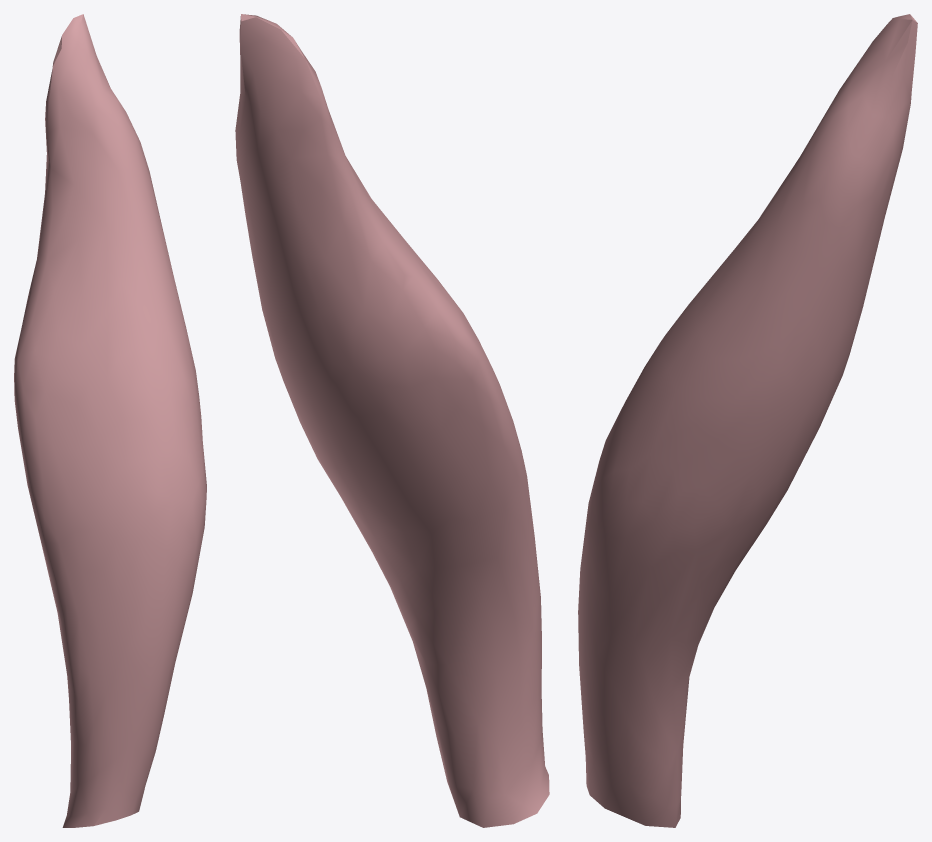
Rendered from fma46190_mm1945m.glb.
The picture shows the model from 3 angles, left to right: view 1: azimuth 30°, elevation 25°; view 2: azimuth 150°, elevation 25°; view 3: azimuth 270°, elevation 25°; orthographic projection. The views are drawn at different scales.
Visible parts, largest first — view 1: FMA46190_MM1945M; view 2: FMA46190_MM1945M; view 3: FMA46190_MM1945M.
Part boxes in pixels (x1,y1,x2,y2): FMA46190_MM1945M: (14,14,206,827); FMA46190_MM1945M: (235,14,549,827); FMA46190_MM1945M: (578,14,917,827).
Bounding box in the file's own units: 0.0108 × 0.0427 × 0.0153.
